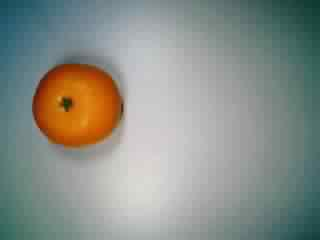orange: (28, 54, 125, 148)
